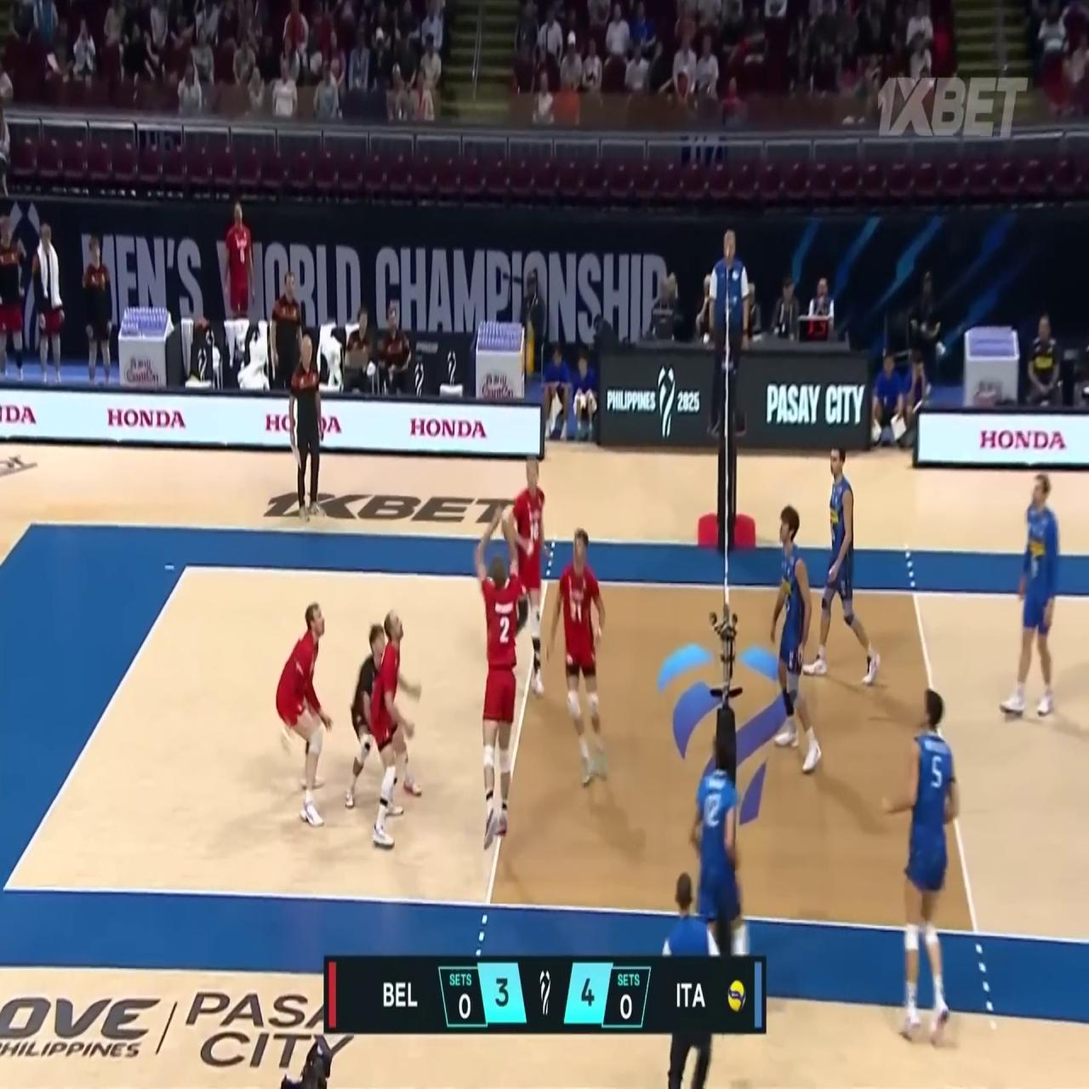ball: (515, 342, 535, 372)
